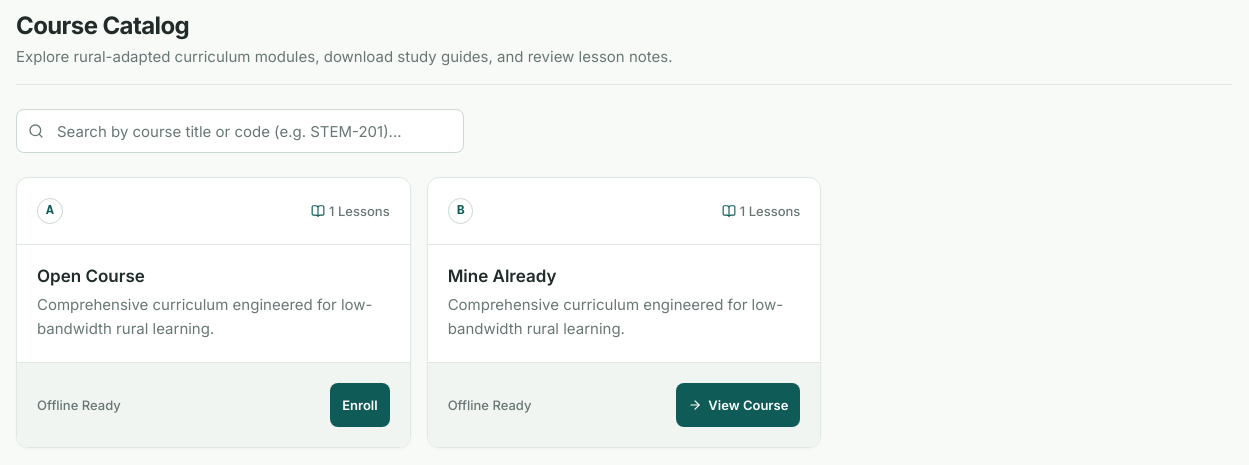
Test: course catalog enroll button › shows Enroll in place of View Course until enrolled, then switches to View Course
Expected: the heading "Open Course" is shown, [37,266,145,286]
Expected: the number of buttons "View Course" is 1, [676,382,800,426]
Click the button "Enroll" at (360,404), box [330,382,390,426]
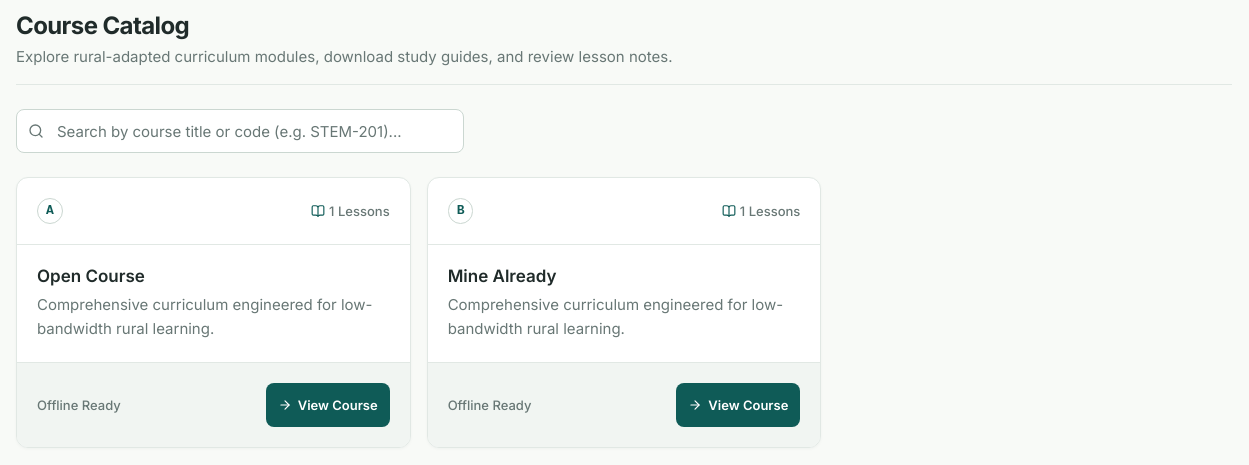
Expected: the number of buttons "View Course" is 2, [266,382,390,426]; [676,382,800,426]
Now the button "Enroll" is gone
